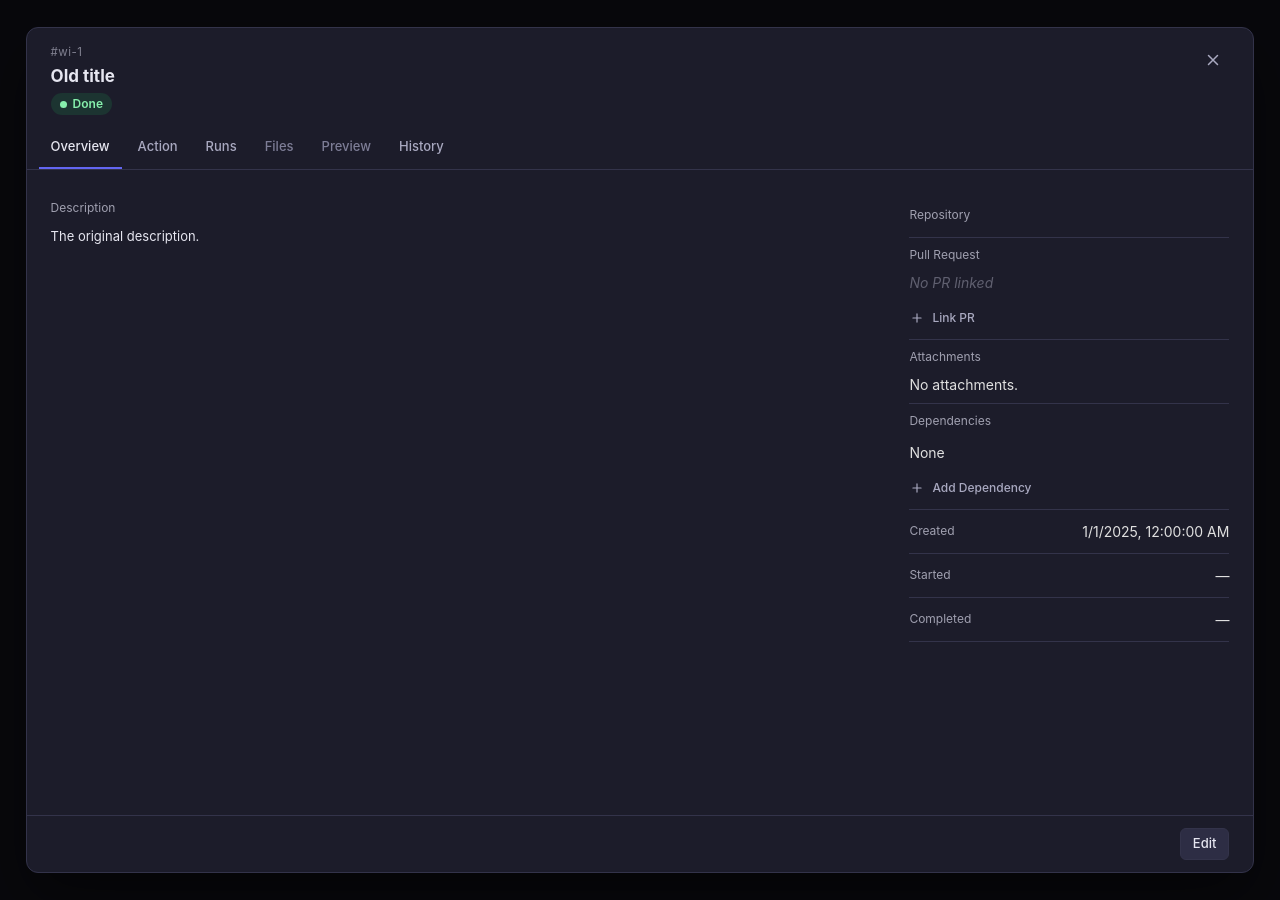
it: human input suggestions in the Action tab › an approve refused because the question moved on shows the card's new status, not an error
Click the tab "Action": (158, 148) [126,127,190,169]
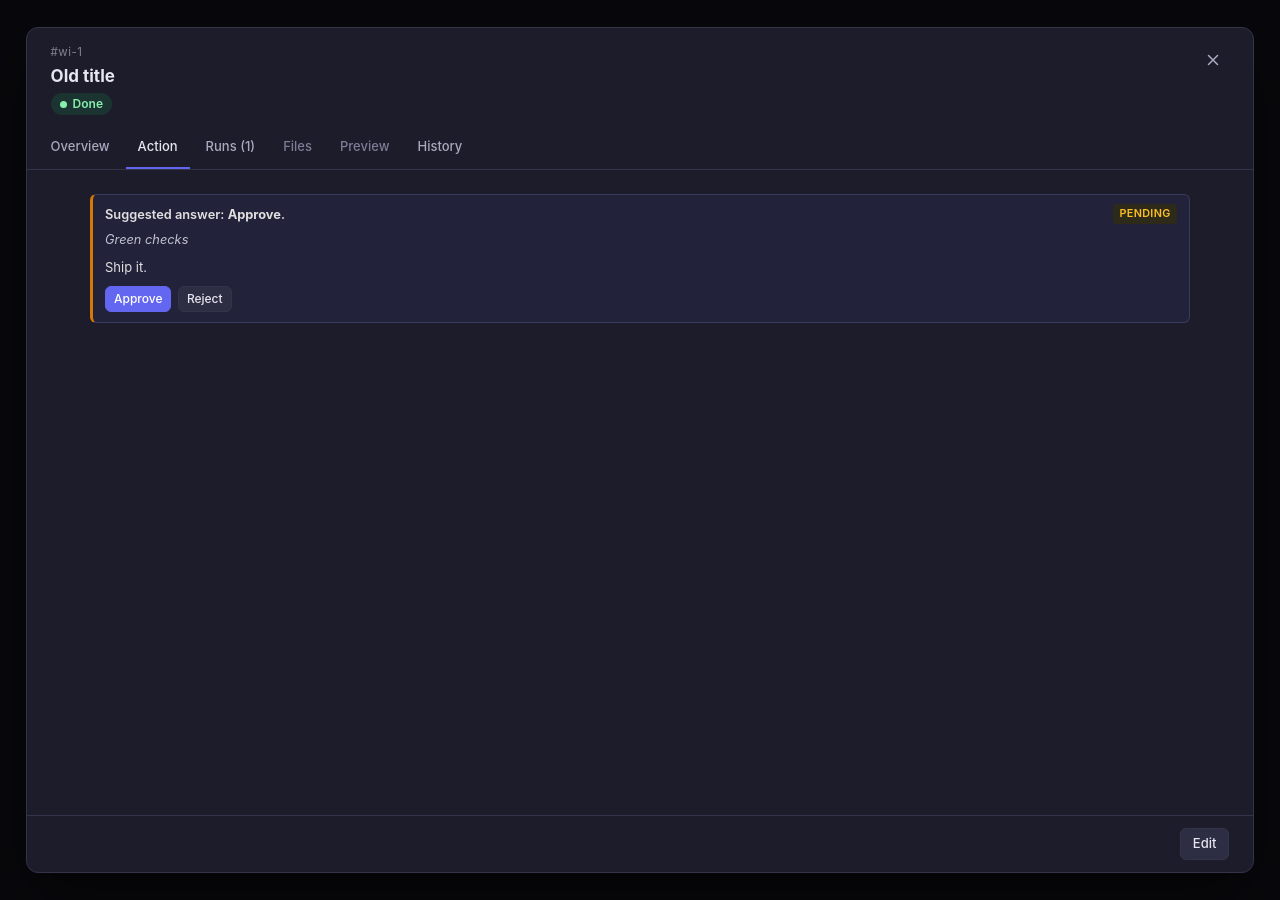
Check: the panel with id "wiv2-panel-action" shows "Green checks", box [105,232,188,247]
Click the button "Approve": (138, 299) [105,286,172,312]
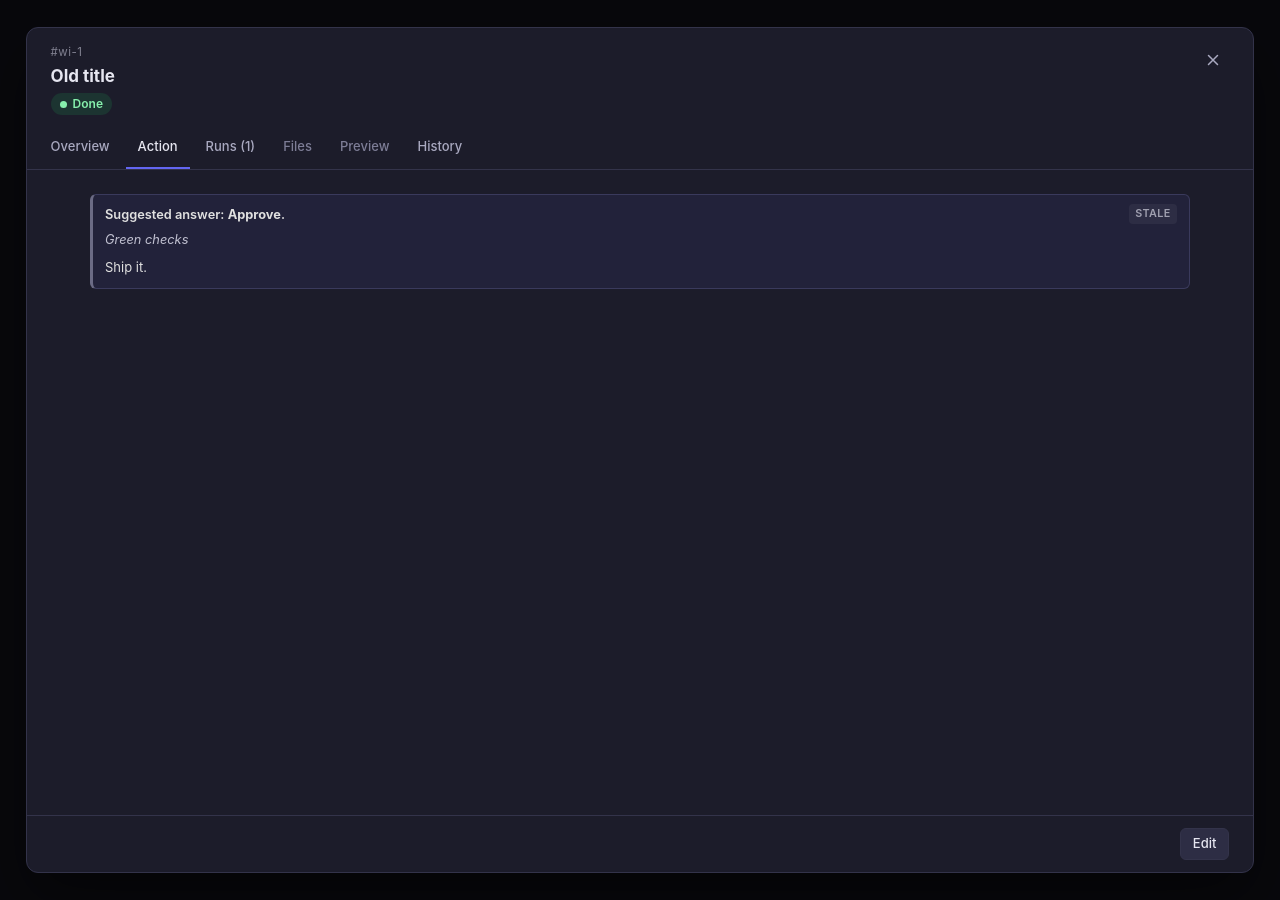
Check: the text "Green checks" shows "Stale", box [1135,207,1171,220]
